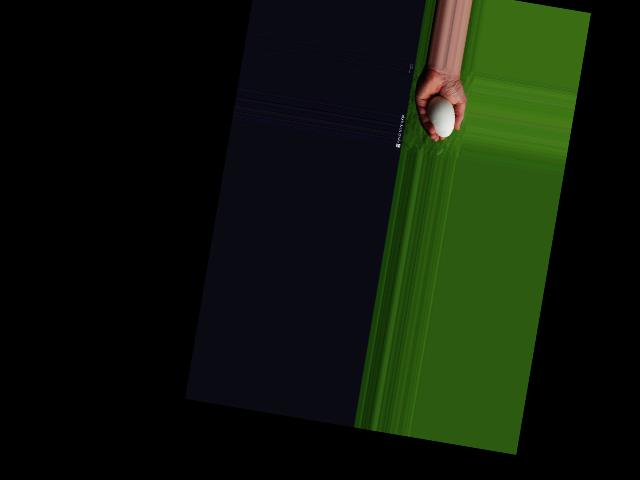egg: (422, 93, 458, 138)
